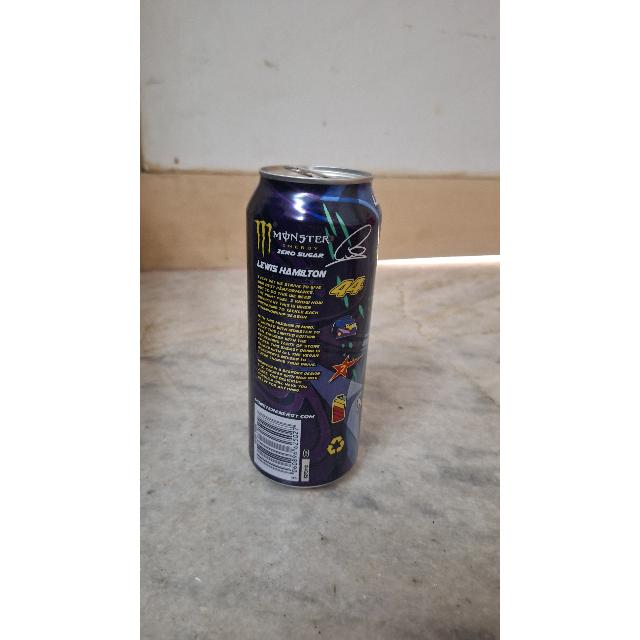Monster LH44: (241, 170, 383, 496)
